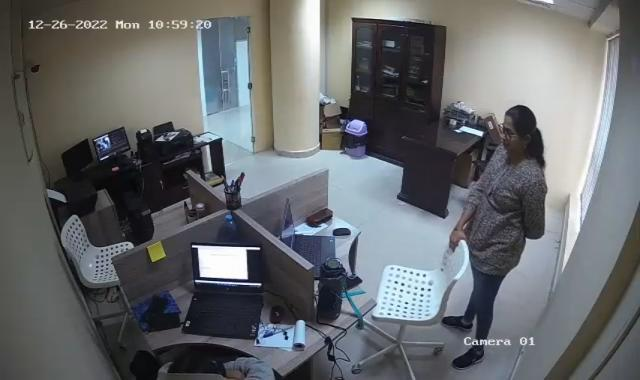no_hairnet: (159, 347, 228, 380), (500, 102, 535, 155)
